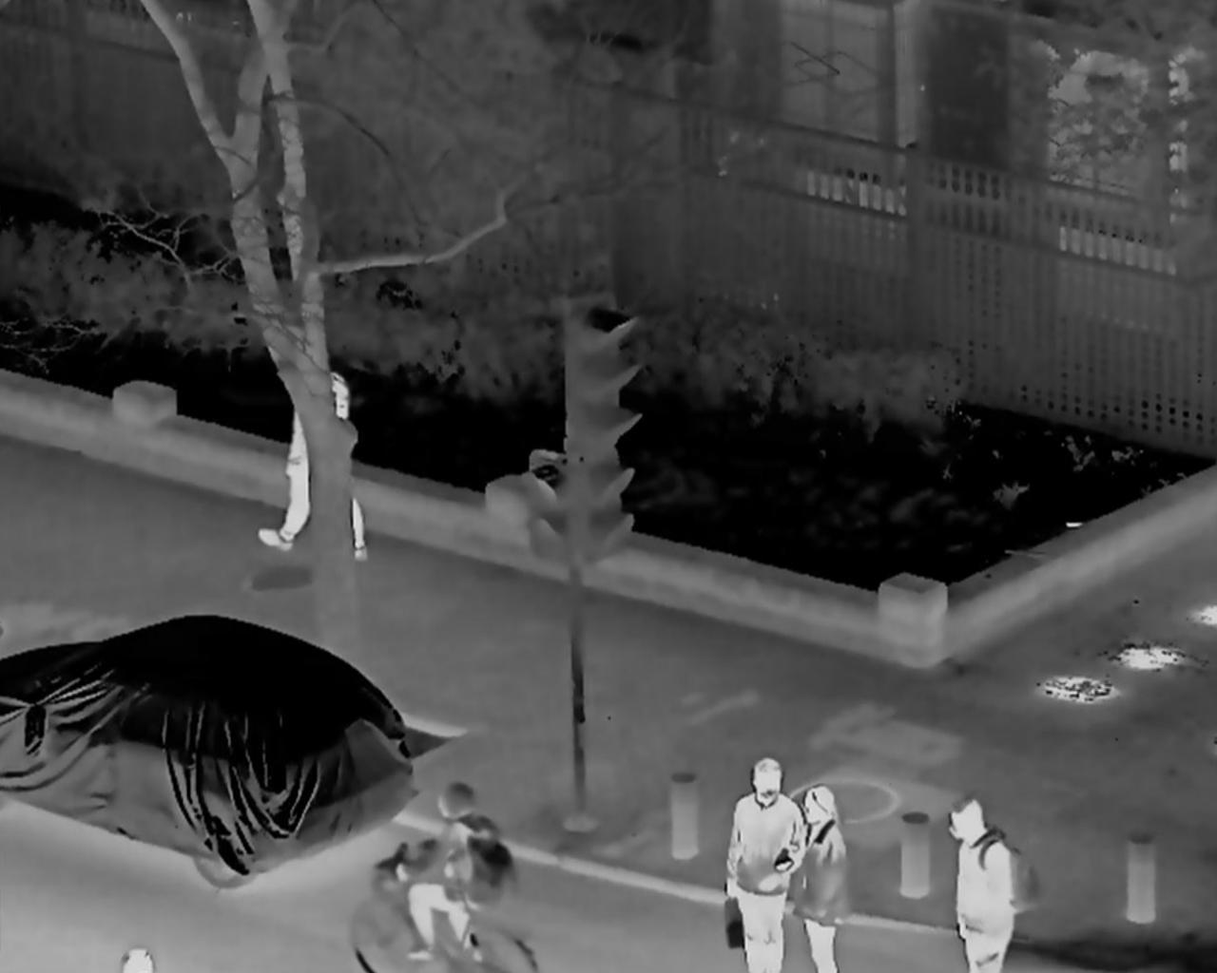person: (260, 360, 369, 562), (391, 787, 507, 958), (727, 762, 809, 973), (781, 780, 846, 973), (947, 801, 1017, 973)
